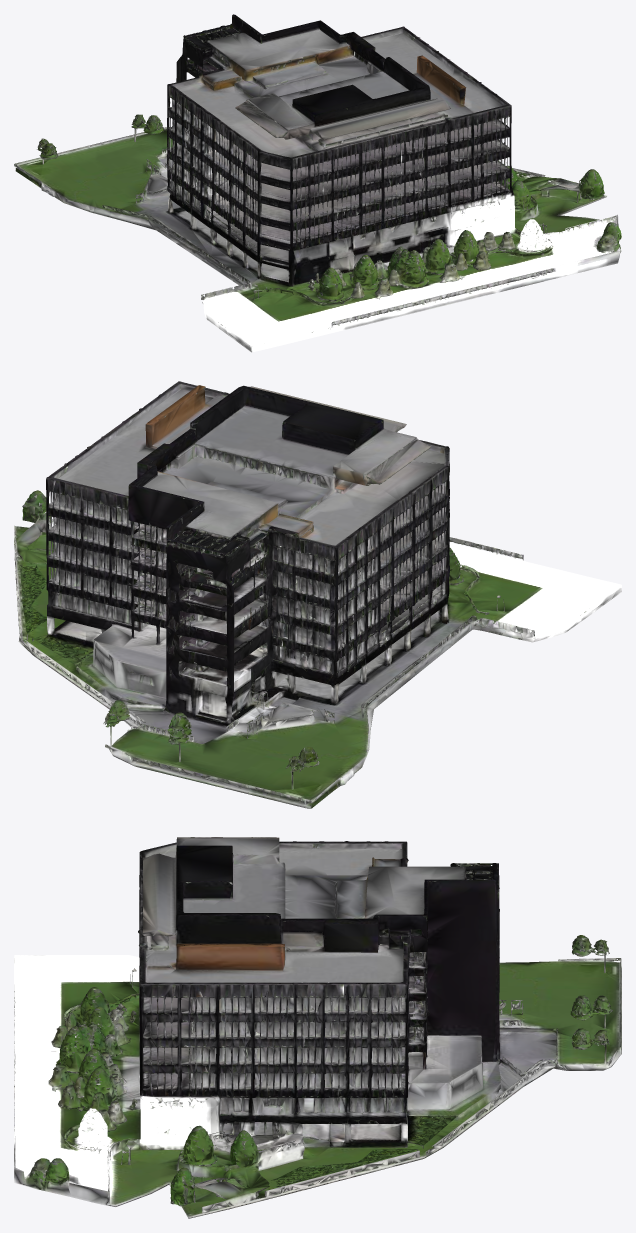
The model's file is building.glb.
3 renders of one model, top to bottom at view 1: azimuth 30°, elevation 25°; view 2: azimuth 150°, elevation 25°; view 3: azimuth 270°, elevation 25°, orthographic. The views are drawn at different scales.
Visible parts, largest first — view 1: Mesh_0; view 2: Mesh_0; view 3: Mesh_0.
Part boxes in pixels (x1,y1,x2,y2): Mesh_0: [14, 14, 621, 352]; Mesh_0: [14, 381, 621, 808]; Mesh_0: [14, 837, 621, 1218].
Size of the model in its own units: 0.7075 by 0.2498 by 0.7078.
1 material, 1 textured.
